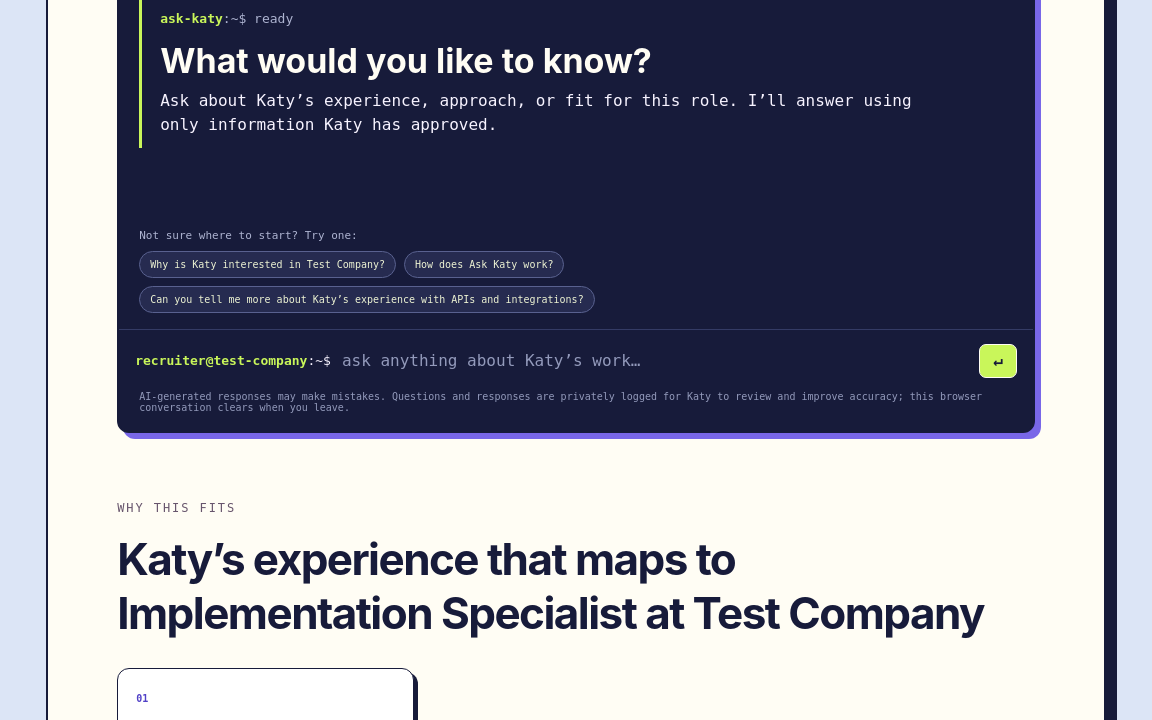
Scenario: submits the visible question even when browser input bypasses React state
(page scrolled)
Type "Where can I find Katy's portfolio?" into the field with placeholder "ask anything about Katy’s work…".
click(655, 361); type("Where can I find Katy's portfolio?")  # box [340, 350, 970, 372]
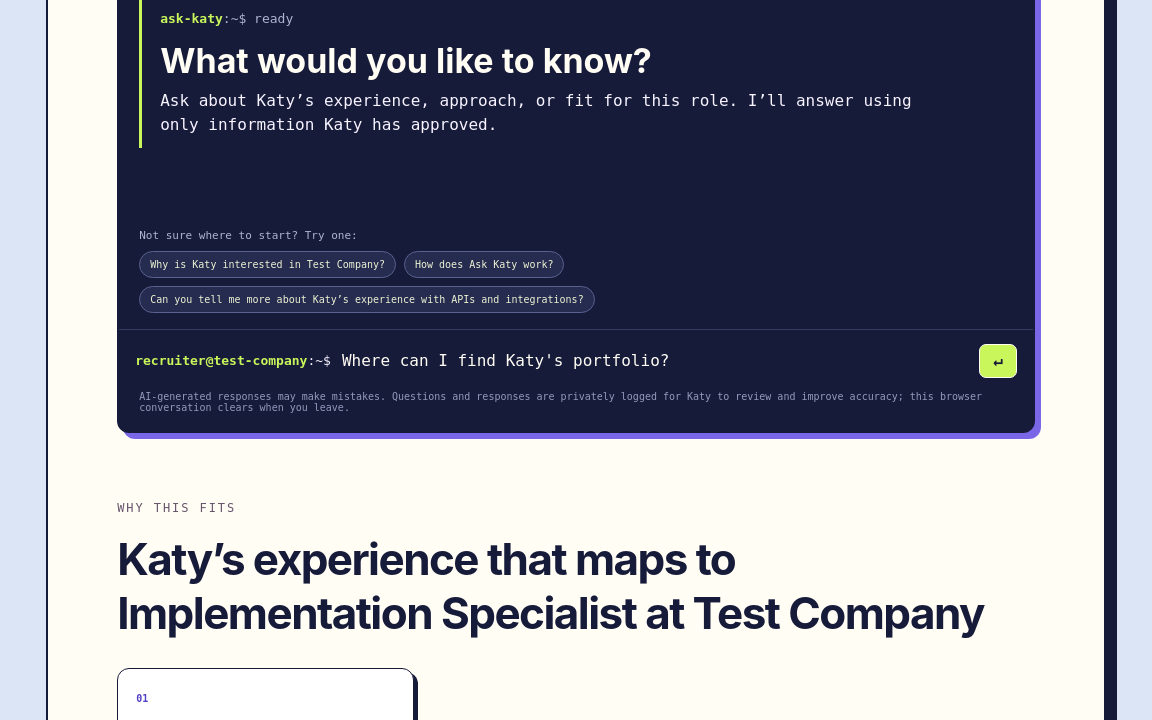
Click the button named "Ask question".
click(998, 361)  # box [979, 344, 1017, 378]
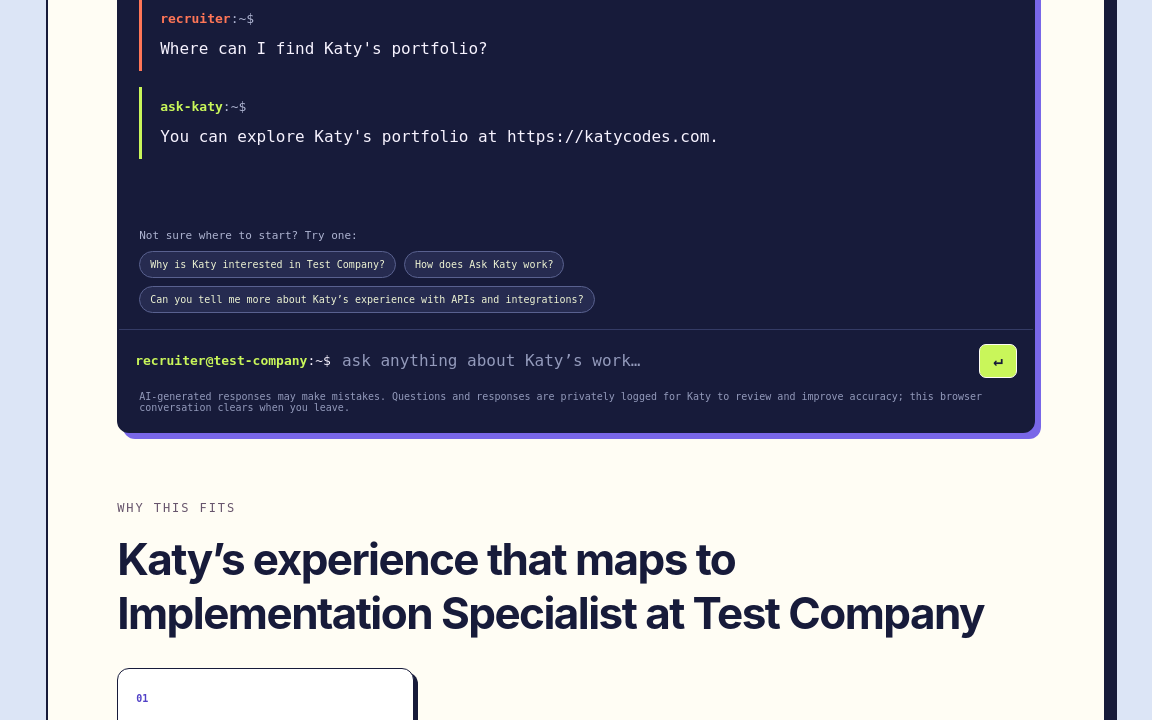
Result: the text "Where can I find Katy's portfolio?" is shown at [160, 39, 488, 58]
Result: the text "You can explore Katy's portfolio at https://katycodes.com." is shown at [160, 127, 719, 146]
